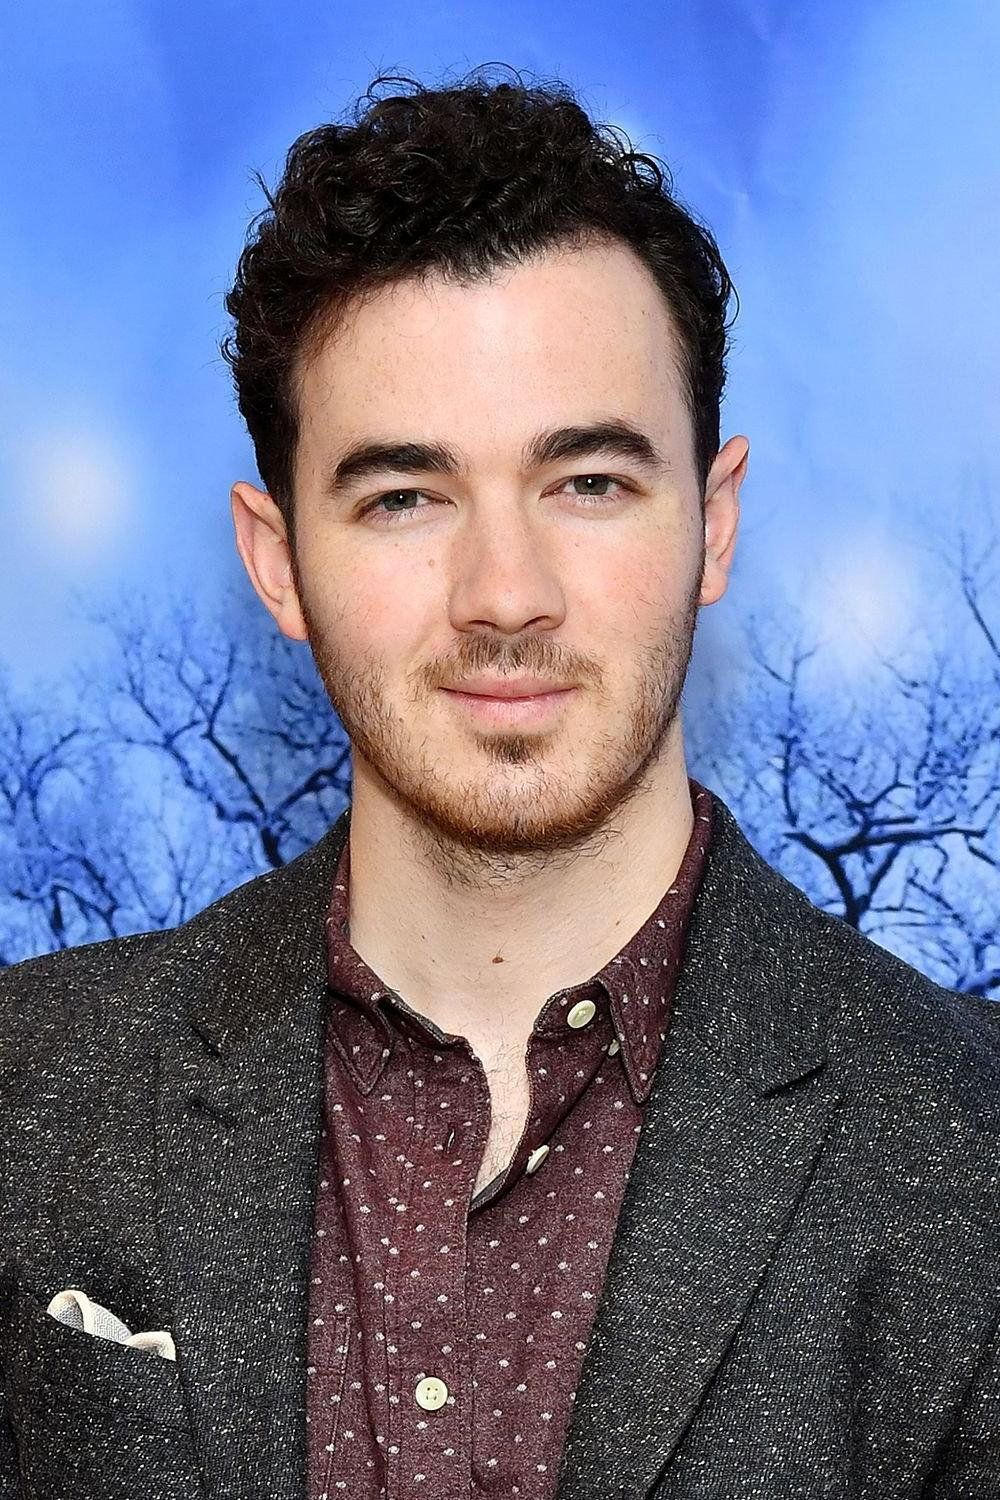Sober: (318, 287, 680, 817)
